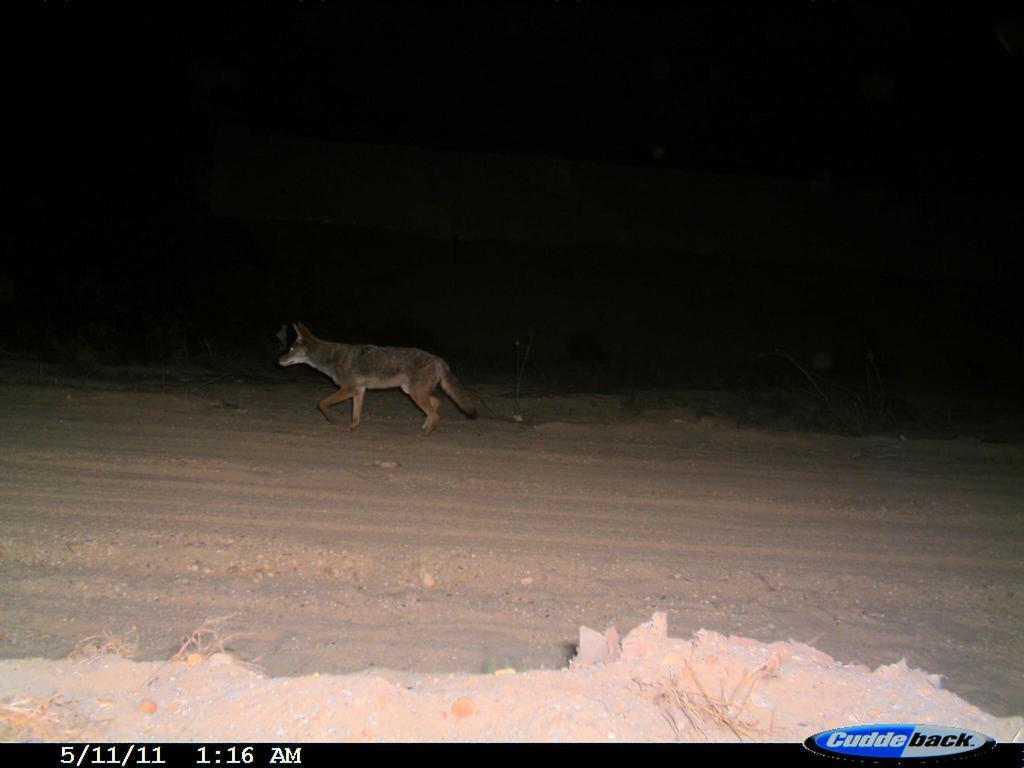coyote: (265, 296, 497, 456)
